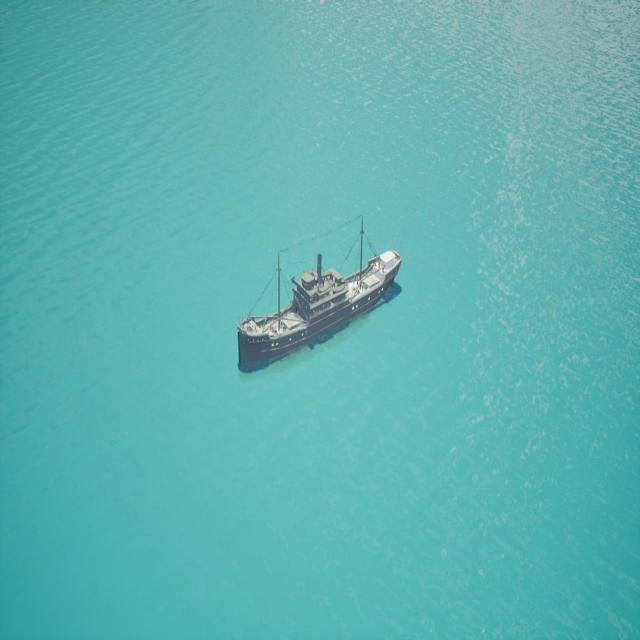fishing ship: (237, 236, 403, 378)
